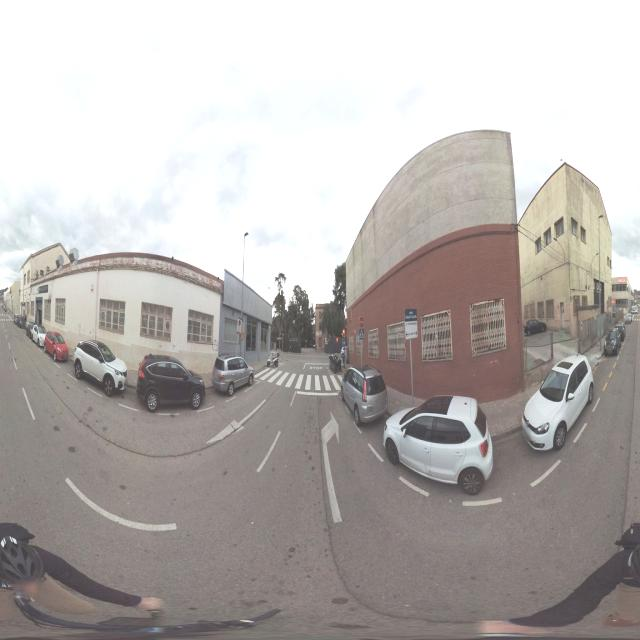car: (382, 406, 493, 496), (522, 366, 594, 452), (136, 352, 206, 413), (74, 336, 128, 398), (342, 368, 390, 427), (212, 353, 254, 396), (44, 330, 69, 362), (603, 328, 621, 356), (524, 317, 548, 335), (32, 323, 47, 345), (329, 352, 342, 372), (288, 336, 301, 354), (614, 322, 626, 341), (267, 349, 279, 367), (26, 318, 36, 336)
